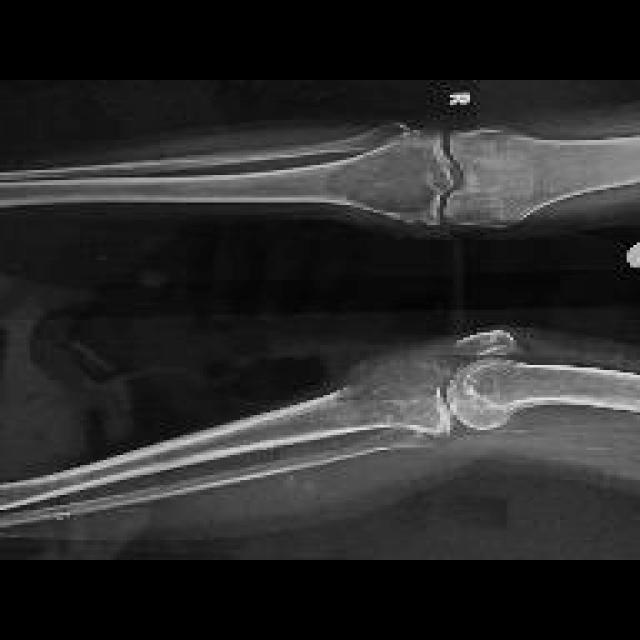bone-cancer: (338, 340, 465, 414), (328, 135, 440, 216)
